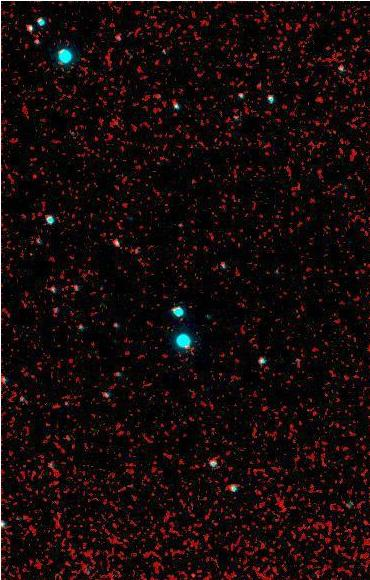star: (178, 560, 208, 580)
